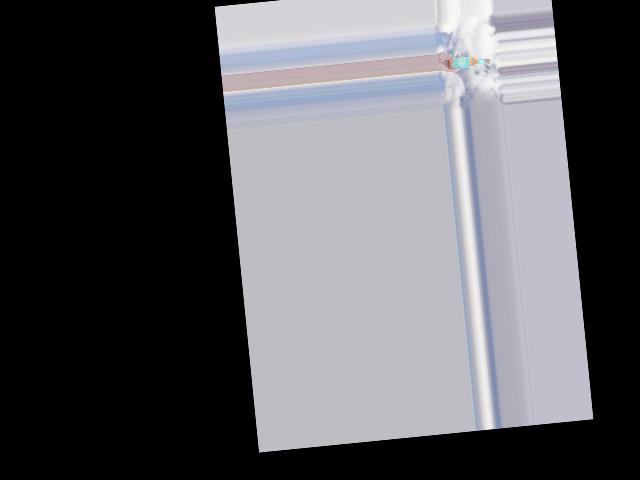beer: (447, 55, 490, 70)
